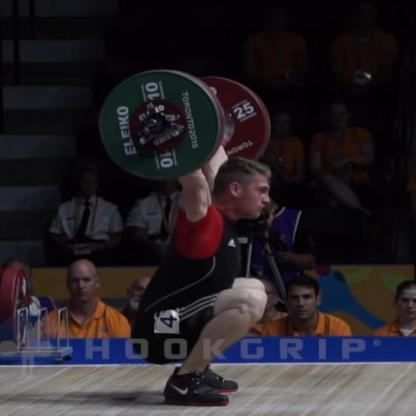Barbell: (92, 66, 232, 189)
